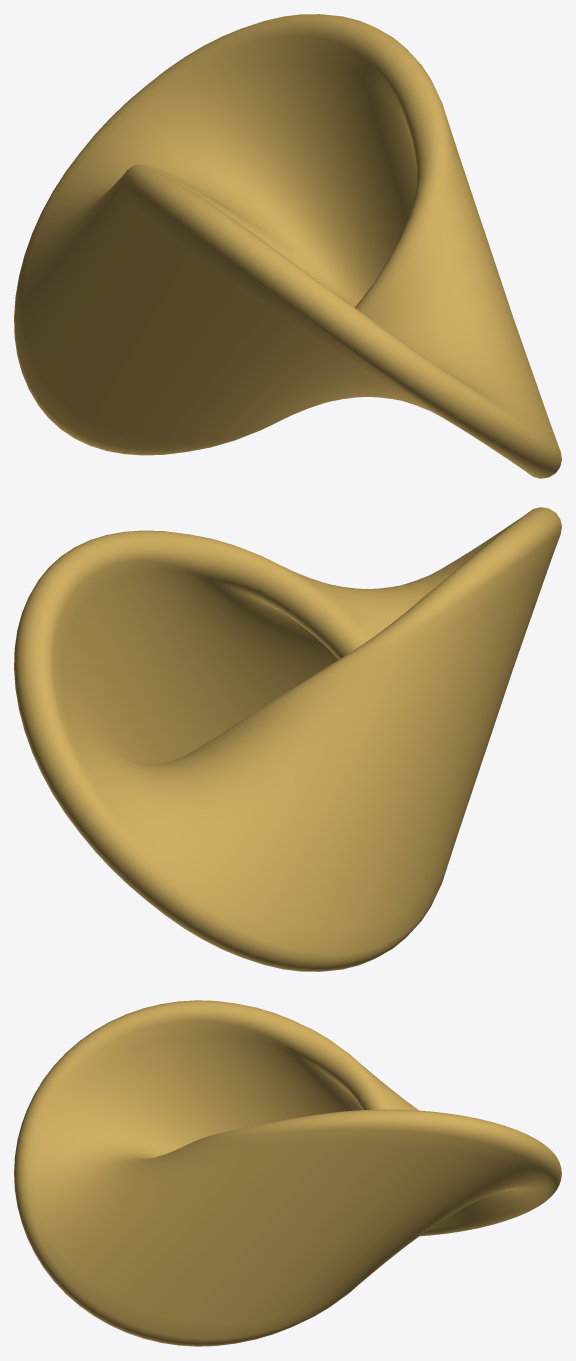
File: golden.gltf
The picture shows the model from 3 angles, top to bottom: view 1: azimuth 30°, elevation 25°; view 2: azimuth 150°, elevation 25°; view 3: azimuth 270°, elevation 25°; orthographic projection. The views are drawn at different scales.
Visible parts, largest first — view 1: Anti Oloid; view 2: Anti Oloid; view 3: Anti Oloid.
Part boxes in pixels (x1=…): Anti Oloid: x1=14, y1=14, x2=561, y2=478; Anti Oloid: x1=14, y1=507, x2=561, y2=971; Anti Oloid: x1=14, y1=1000, x2=561, y2=1346.
Bounding box in the file's own units: 1.57 × 1.41 × 3.
